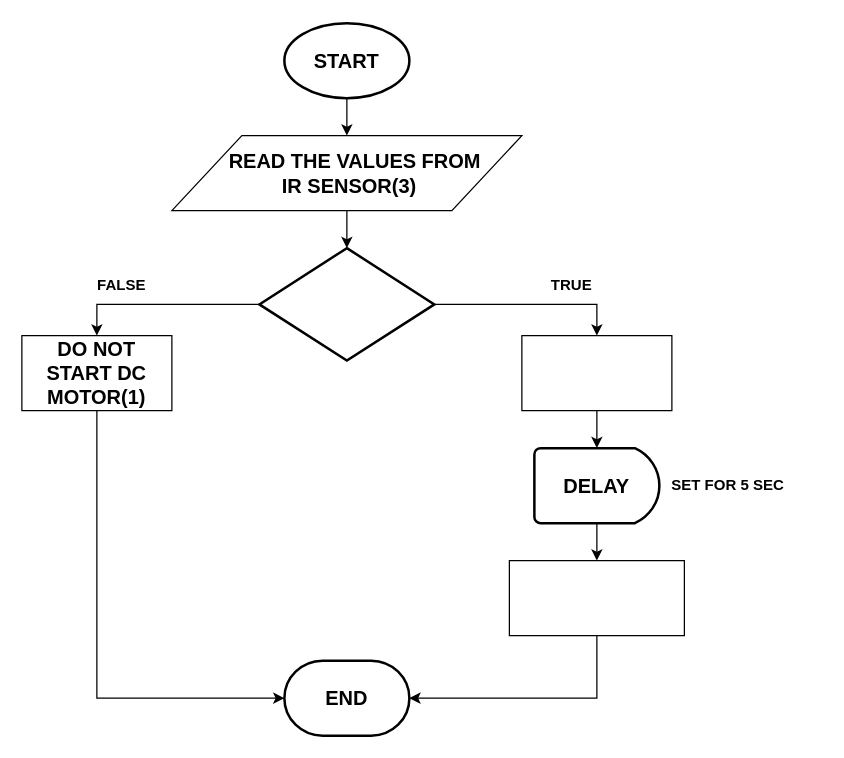
The diagram is 844 pixels wide and 758 high, and some of its shapes have lost their labels. The centre of each missing label's shape, as x and y in pixels:
"IF HIGH (1)" belongs at [346,303].
"TURN DC MOTOR(1) ANTICLOCKWISE" belongs at [596,597].
"TURN DC MOTOR(1) CLOCKWISE" belongs at [596,372].
